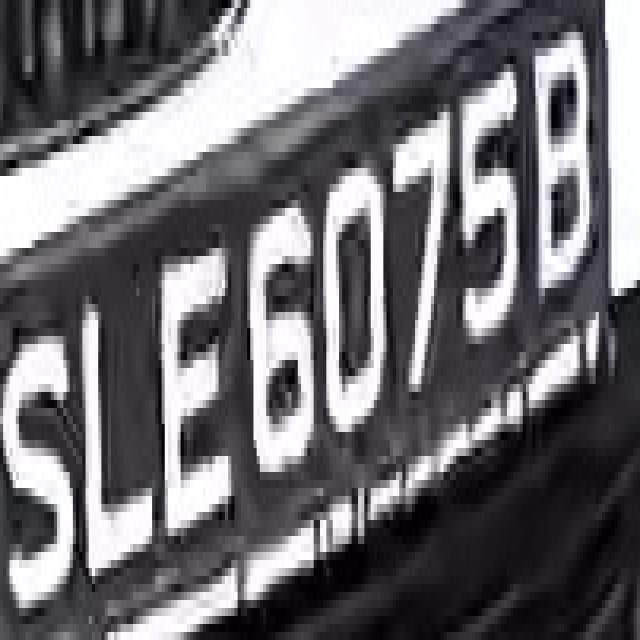0: (320, 152, 396, 472)
5: (444, 88, 526, 384)
6: (238, 184, 314, 488)
7: (393, 104, 459, 408)
B: (523, 24, 605, 304)
E: (158, 256, 241, 544)
L: (76, 280, 158, 576)
S: (6, 304, 80, 624)
